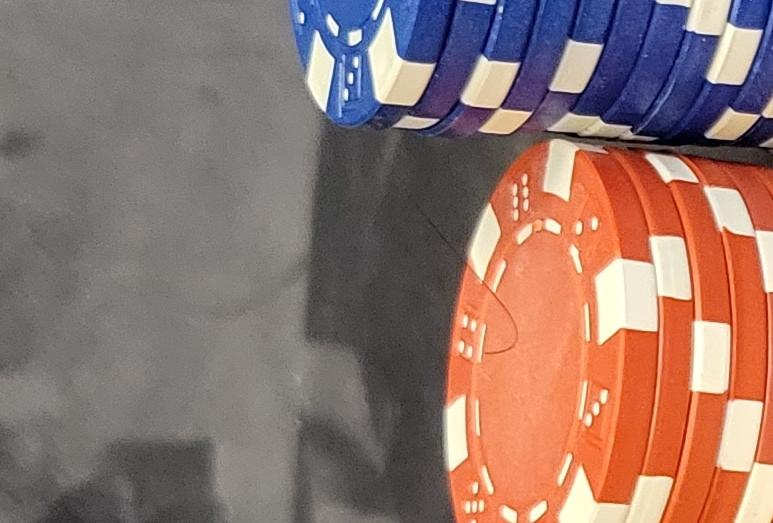Chip: (1, 296, 411, 523)
